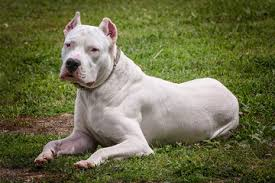dog: (33, 6, 250, 174)
